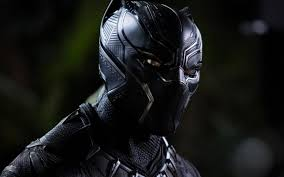Object-Detection: (1, 0, 284, 177)
